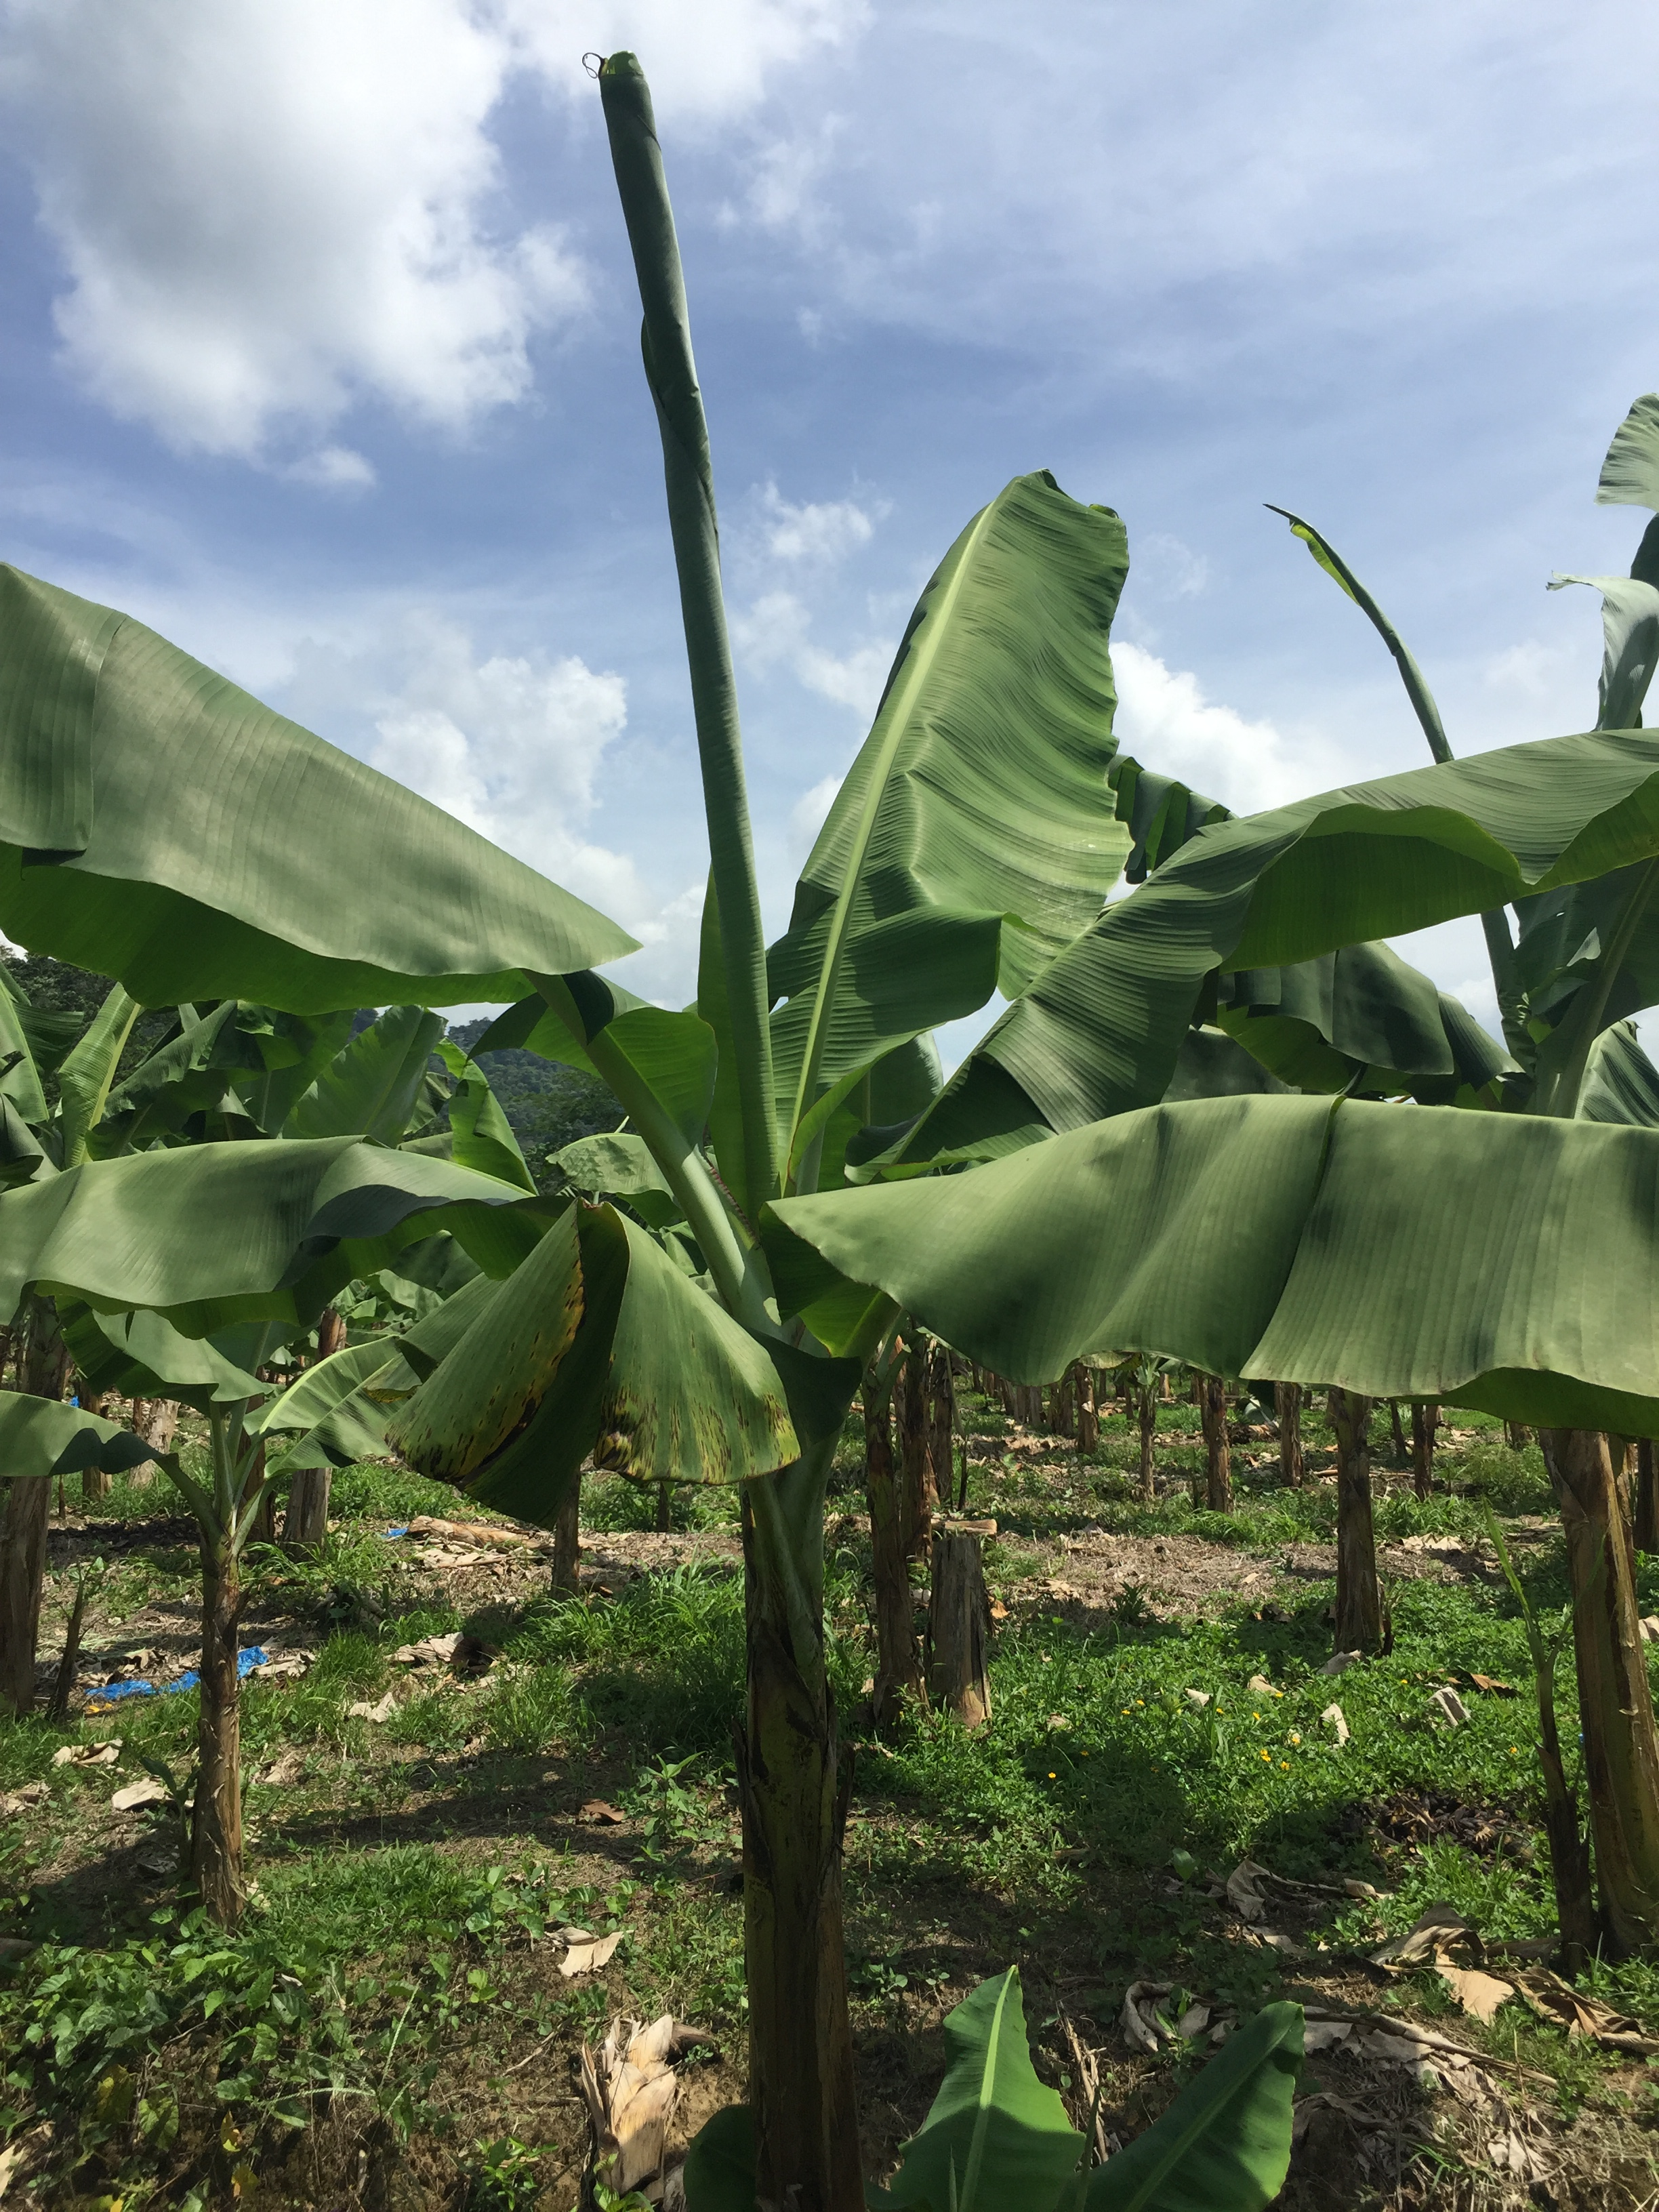candleleafs: (580, 45, 779, 1223), (1262, 502, 1453, 765)
